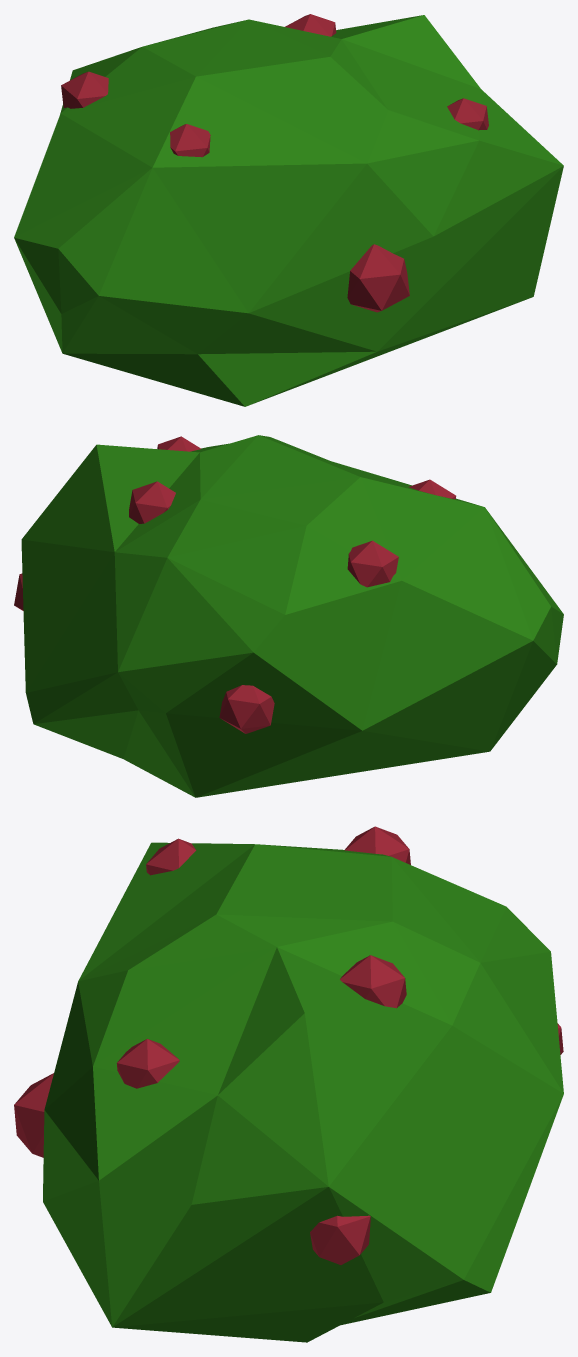
The model's file is BerryBush.fbx.
3 views of the same model, one above another, from view 1: azimuth 30°, elevation 25°; view 2: azimuth 150°, elevation 25°; view 3: azimuth 270°, elevation 25° (orthographic). The views are drawn at different scales.
Visible parts, largest first — view 1: Bush, Berries; view 2: Bush, Berries; view 3: Bush, Berries.
Part boxes in pixels (x1=…): Bush: x1=14, y1=15, x2=563, y2=406; Berries: x1=61, y1=14, x2=488, y2=312; Bush: x1=21, y1=435, x2=563, y2=797; Berries: x1=14, y1=436, x2=456, y2=733; Bush: x1=43, y1=842, x2=563, y2=1342; Berries: x1=14, y1=826, x2=563, y2=1264.
Size of the model in its own units: 84.42 by 45.08 by 64.78.
